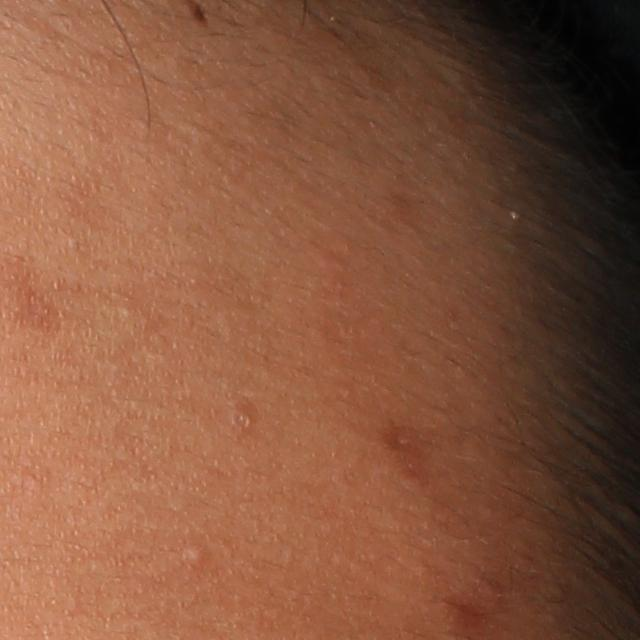comedo: (184, 541, 210, 567), (228, 408, 250, 430)
